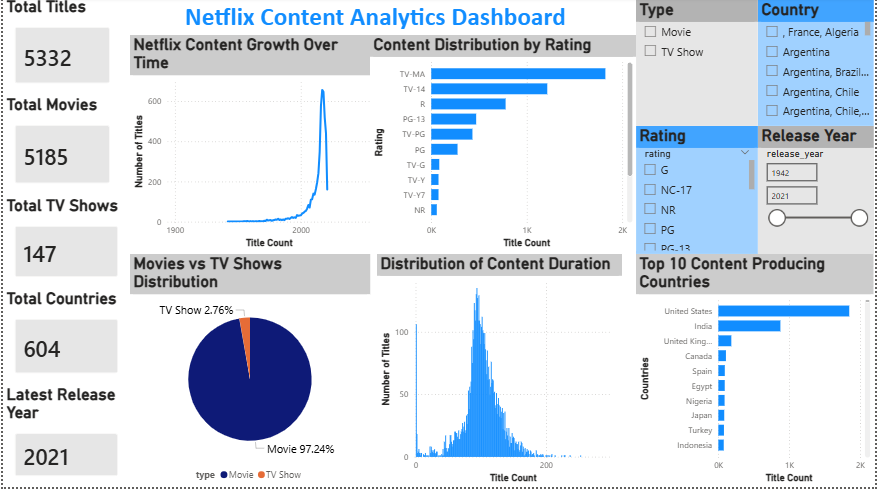

The dashboard page shown, as its layout file describes it:
{"tool":"powerbi","page":{"name":"Page 1","canvas":[1280,720],"ordinal":0},"visuals":[{"type":"cardVisual","title":"Total Titles","fields":{"Data":["cleaned_netflix_data.Total Titles"]},"box":[0,0,174.7,144.5],"z":0},{"type":"cardVisual","title":"Total TV Shows","fields":{"Data":["cleaned_netflix_data.Total TV Shows"]},"box":[0,292.3,186.5,136.1],"z":1},{"type":"cardVisual","title":"Total Countries","fields":{"Data":["cleaned_netflix_data.Total Countries"]},"box":[0,428.3,186.5,141.1],"z":3},{"type":"cardVisual","title":"Latest Release Year","fields":{"Data":["cleaned_netflix_data.Latest Release Year"]},"box":[0,569.4,186.5,151.2],"z":4},{"type":"cardVisual","title":"Total Movies","fields":{"Data":["cleaned_netflix_data.Total Movies"]},"box":[0,144.5,174.7,147.8],"z":5},{"type":"pieChart","title":"Movies vs TV Shows Distribution","fields":{"Category":["cleaned_netflix_data.type"],"Y":["CountNonNull(cleaned_netflix_data.show_id)"]},"box":[186,377.6,352.7,343],"z":6},{"type":"clusteredBarChart","title":"Top 10 Content Producing Countries","fields":{"Category":["cleaned_netflix_data.country"],"Y":["CountNonNull(cleaned_netflix_data.show_id)"]},"box":[930.6,378,349.4,341],"z":10},{"type":"slicer","title":"Rating","fields":{"Values":["cleaned_netflix_data.rating"]},"box":[930.1,189.6,179.3,188.1],"z":11},{"type":"slicer","title":"Release Year","fields":{"Values":["cleaned_netflix_data.release_year"]},"box":[1109.4,189.6,170.4,188.1],"z":12},{"type":"textbox","box":[186.6,0,721.5,55.8],"z":13},{"type":"slicer","title":"Type","fields":{"Values":["cleaned_netflix_data.type"]},"box":[930.1,4.4,179.3,185.1],"z":14},{"type":"slicer","title":"Country","fields":{"Values":["cleaned_netflix_data.country"]},"box":[1109.4,4.4,170.4,185.1],"z":15},{"type":"lineChart","title":"Netflix Content Growth Over Time","fields":{"Category":["cleaned_netflix_data.release_year"],"Y":["CountNonNull(cleaned_netflix_data.show_id)"]},"box":[186.6,55.8,361.5,317.4],"z":16},{"type":"clusteredBarChart","title":"Content Distribution by Rating","fields":{"Category":["cleaned_netflix_data.rating"],"Y":["CountNonNull(cleaned_netflix_data.show_id)"]},"box":[539.3,55.8,390.9,317.4],"z":17},{"type":"clusteredColumnChart","title":"Distribution of Content Duration","fields":{"Category":["cleaned_netflix_data.duration_numeric"],"Y":["CountNonNull(cleaned_netflix_data.show_id)"]},"box":[549.6,377.6,360,340.9],"z":18}]}

Visuals, with their boxes in screenshot pixels (x1, y1, x2, y2), scaled from the page's 1280x720 canvas onto the 880x489 screenshot:
"Total Titles" cardVisual: (0, 0, 120, 98)
"Total TV Shows" cardVisual: (0, 199, 128, 291)
"Total Countries" cardVisual: (0, 291, 128, 387)
"Latest Release Year" cardVisual: (0, 387, 128, 488)
"Total Movies" cardVisual: (0, 98, 120, 199)
"Movies vs TV Shows Distribution" pieChart: (128, 256, 370, 488)
"Top 10 Content Producing Countries" clusteredBarChart: (640, 257, 879, 488)
"Rating" slicer: (639, 129, 763, 257)
"Release Year" slicer: (763, 129, 879, 257)
textbox: (128, 0, 624, 38)
"Type" slicer: (639, 3, 763, 129)
"Country" slicer: (763, 3, 879, 129)
"Netflix Content Growth Over Time" lineChart: (128, 38, 377, 253)
"Content Distribution by Rating" clusteredBarChart: (371, 38, 640, 253)
"Distribution of Content Duration" clusteredColumnChart: (378, 256, 625, 488)
